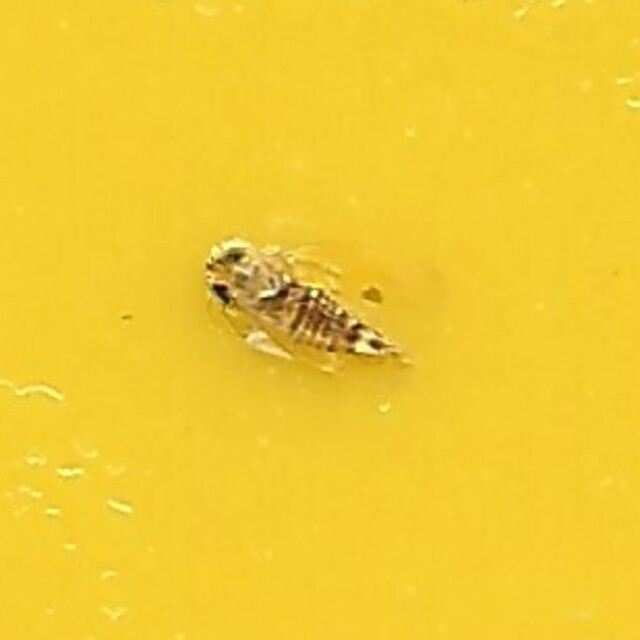Hemiptera: (207, 238, 433, 402)
